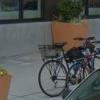Bicycle: (34, 32, 100, 93)
